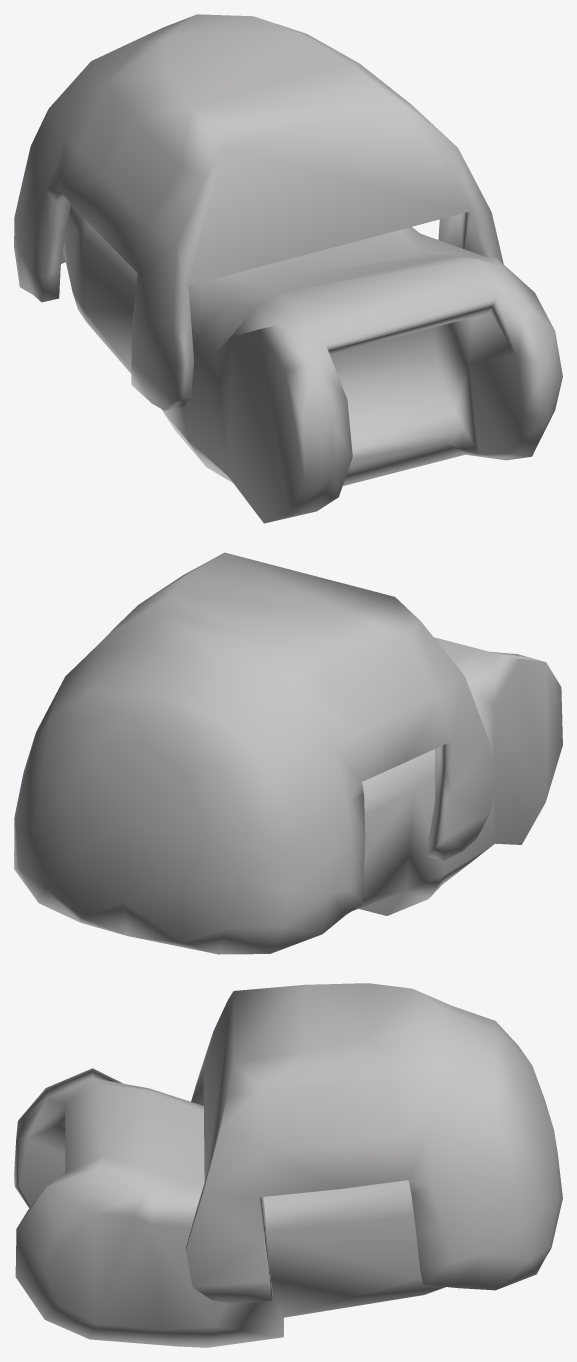
Rendered from Finger_Dist.dae.
3 renders of one model, top to bottom at view 1: azimuth 30°, elevation 25°; view 2: azimuth 150°, elevation 25°; view 3: azimuth 270°, elevation 25°, orthographic. The views are drawn at different scales.
Visible parts, largest first — view 1: Mesh; view 2: Mesh; view 3: Mesh.
Part boxes in pixels (<box>): Mesh: <box>14,14,562,523</box>; Mesh: <box>14,552,562,954</box>; Mesh: <box>14,983,562,1347</box>.
Bounding box in the file's own units: 0.0179 × 0.0175 × 0.0293.
1 material, 1 textured.
